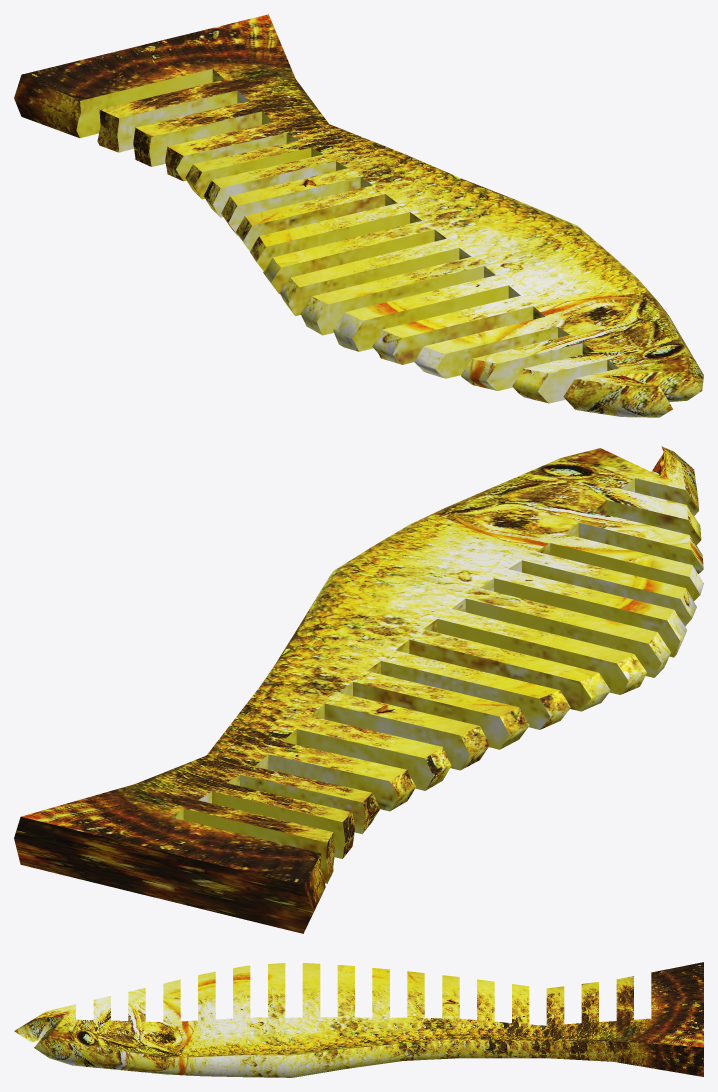
Rendered from PeineDorado.fbx.
3 views of the same model, one above another, from view 1: azimuth 30°, elevation 25°; view 2: azimuth 150°, elevation 25°; view 3: azimuth 270°, elevation 25° (orthographic). The views are drawn at different scales.
Visible parts, largest first — view 1: Cube; view 2: Cube; view 3: Cube.
Part boxes in pixels (bbox=[...]): Cube: bbox=[14, 14, 703, 417]; Cube: bbox=[14, 446, 703, 933]; Cube: bbox=[14, 962, 703, 1077].
Size of the model in its own units: 142 by 19.77 by 415.
